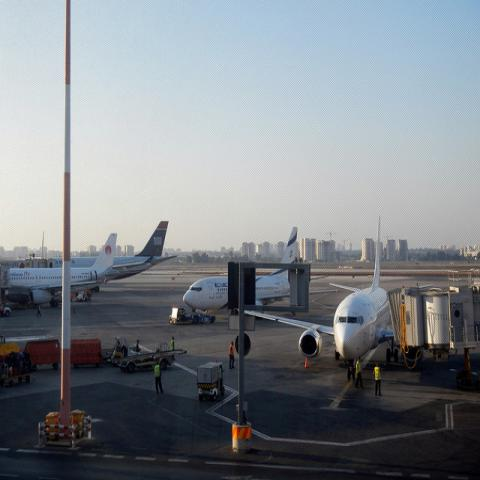truck: (197, 359, 225, 401)
